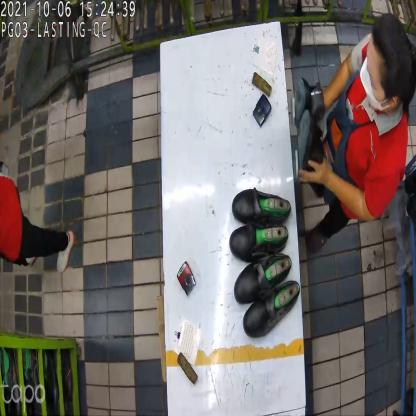shoes: (230, 254, 298, 338), (231, 186, 291, 258), (293, 80, 326, 176)
stamp: (250, 96, 272, 128), (179, 264, 196, 298)
